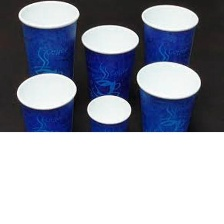paper_cup: (14, 0, 83, 98), (77, 20, 142, 108), (131, 57, 204, 131), (136, 0, 202, 77), (13, 68, 79, 131), (82, 90, 134, 131)
